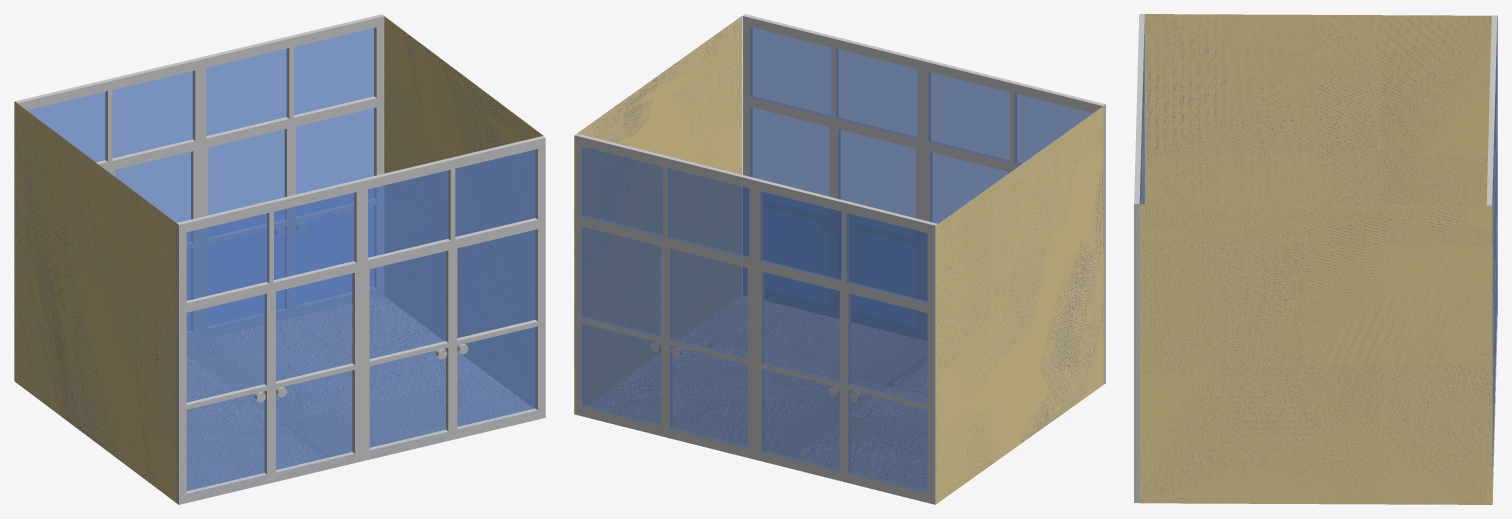
The model's file is COM002.obj.
3 renders of one model, left to right at view 1: azimuth 30°, elevation 25°; view 2: azimuth 150°, elevation 25°; view 3: azimuth 270°, elevation 25°, orthographic. The views are drawn at different scales.
Parts seen in each view (by area): view 1: Mesh29 COM002 Model, Mesh1 puerta11_5_1 COM002 Model, Mesh15 puerta11_5_2 COM002 Model; view 2: Mesh29 COM002 Model, Mesh15 puerta11_5_2 COM002 Model, Mesh1 puerta11_5_1 COM002 Model; view 3: Mesh29 COM002 Model, Mesh1 puerta11_5_1 COM002 Model, Mesh15 puerta11_5_2 COM002 Model.
Boxes of the visible parts, x1,y1,x2,y2 form: Mesh29 COM002 Model: (14,16,543,502); Mesh1 puerta11_5_1 COM002 Model: (176,136,545,504); Mesh15 puerta11_5_2 COM002 Model: (15,14,384,342); Mesh29 COM002 Model: (574,16,1103,504); Mesh15 puerta11_5_2 COM002 Model: (574,133,937,504); Mesh1 puerta11_5_1 COM002 Model: (742,14,1105,384); Mesh29 COM002 Model: (1139,14,1497,504); Mesh1 puerta11_5_1 COM002 Model: (1134,14,1144,502); Mesh15 puerta11_5_2 COM002 Model: (1486,16,1497,479).
Size of the model in its own units: 4.13 by 3 by 3.31.
Materials: 5 (2 with a texture image).
